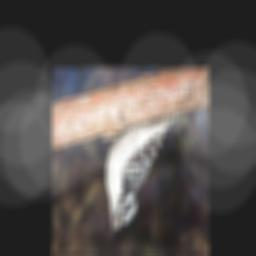Woodpecker: (99, 110, 181, 240)
